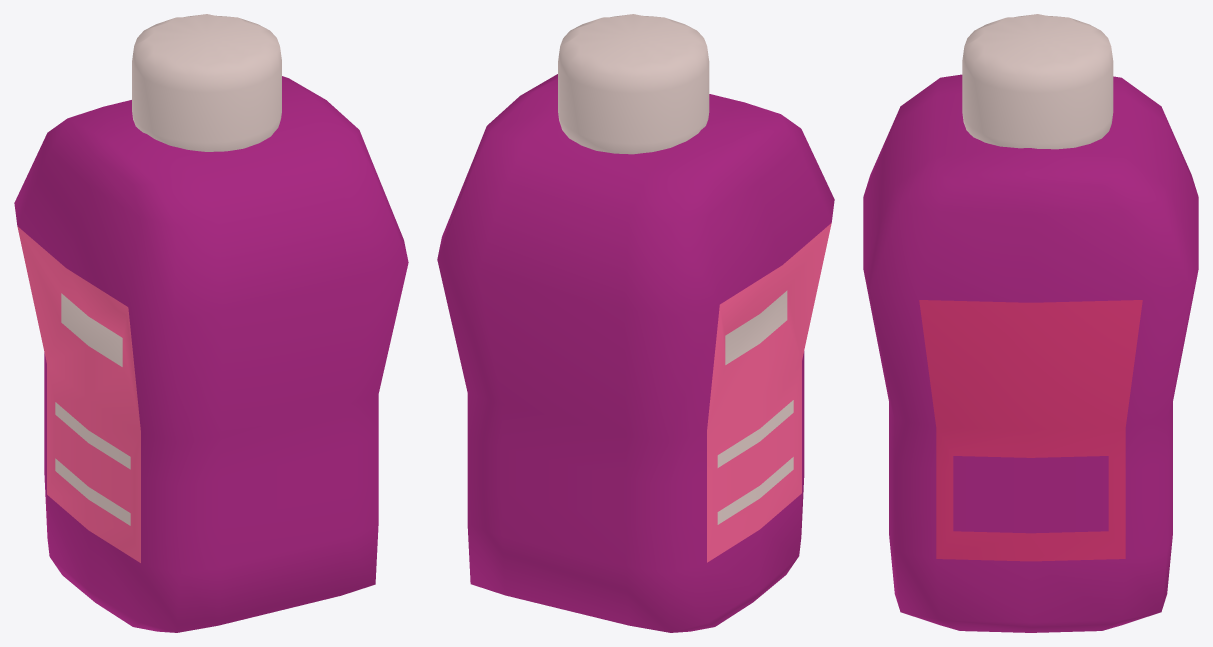
Rendered from shampoo.glb.
The picture shows the model from 3 angles, left to right: view 1: azimuth 30°, elevation 25°; view 2: azimuth 150°, elevation 25°; view 3: azimuth 270°, elevation 25°; orthographic projection.
Parts seen in each view (by area): view 1: Cube.023; view 2: Cube.023; view 3: Cube.023.
Boxes of the visible parts, x1,y1,x2,y2 form: Cube.023: [14, 14, 408, 632]; Cube.023: [437, 14, 834, 632]; Cube.023: [863, 14, 1198, 632].
Bounding box in the file's own units: 3.05 × 5.44 × 3.05.
1 material, 1 textured.
